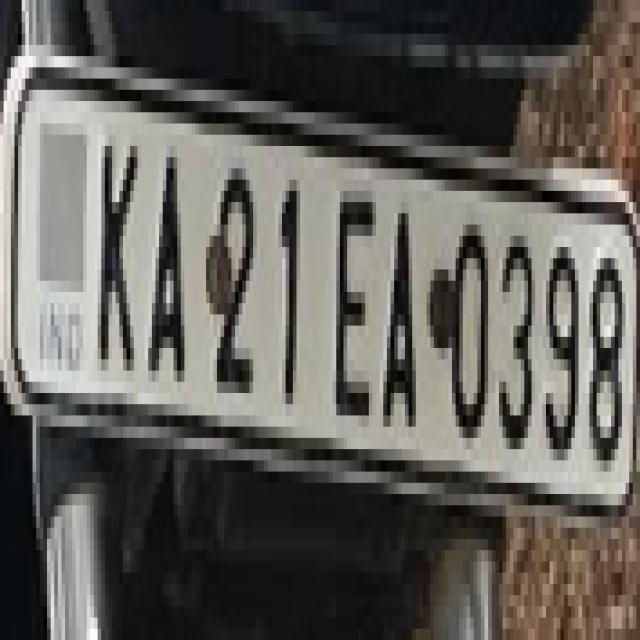0: (451, 205, 492, 465)
1: (274, 156, 304, 433)
3: (496, 230, 534, 470)
8: (588, 239, 624, 479)
9: (542, 227, 581, 468)
A: (146, 134, 190, 410), (380, 194, 422, 456)
E: (332, 156, 376, 452)
K: (96, 109, 142, 394)
